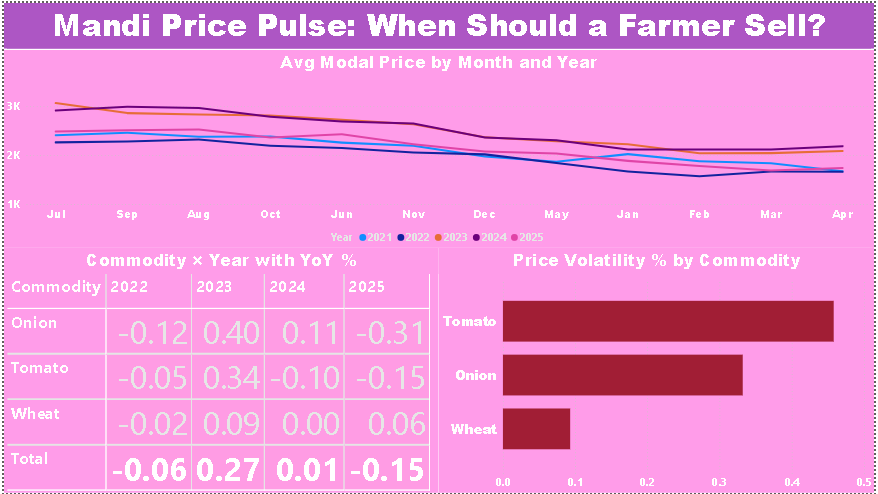

What the dashboard file says about the page in this screenshot:
{"tool":"powerbi","page":{"name":"Price Trends & Risks","canvas":[1280,720],"ordinal":1},"visuals":[{"type":"textbox","title":"Mandi Price Pulse: When Should a Farmer Sell?","box":[0,0,1280.2,69.1],"z":0},{"type":"lineChart","fields":{"Category":["DimDate.Month"],"Y":["mandi_prices.Avg Modal Price"],"Series":["DimDate.Year"]},"box":[0,69.1,1280.2,290.9],"z":1},{"type":"pivotTable","title":"Commodity × Year with YoY %","fields":{"Rows":["mandi_prices.Commodity"],"Columns":["DimDate.Year"],"Values":["mandi_prices.YoY %"]},"box":[0,360,639.4,360],"z":2},{"type":"barChart","fields":{"Category":["mandi_prices.Commodity"],"Y":["mandi_prices.Price Volatility %"]},"box":[639,360,641,360],"z":3}]}

Visuals, with their boxes in screenshot pixels (x1, y1, x2, y2), scaled from the page's 1280x720 canvas onto the 878x494 screenshot:
"Mandi Price Pulse: When Should a Farmer Sell?" textbox: [0, 0, 877, 47]
lineChart - DimDate.Month x mandi_prices.Avg Modal Price: [0, 47, 877, 247]
"Commodity × Year with YoY %" pivotTable: [0, 247, 439, 493]
barChart - mandi_prices.Commodity x mandi_prices.Price Volatility %: [438, 247, 877, 493]
